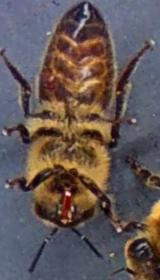varroa_mite: (34, 60, 64, 94)
